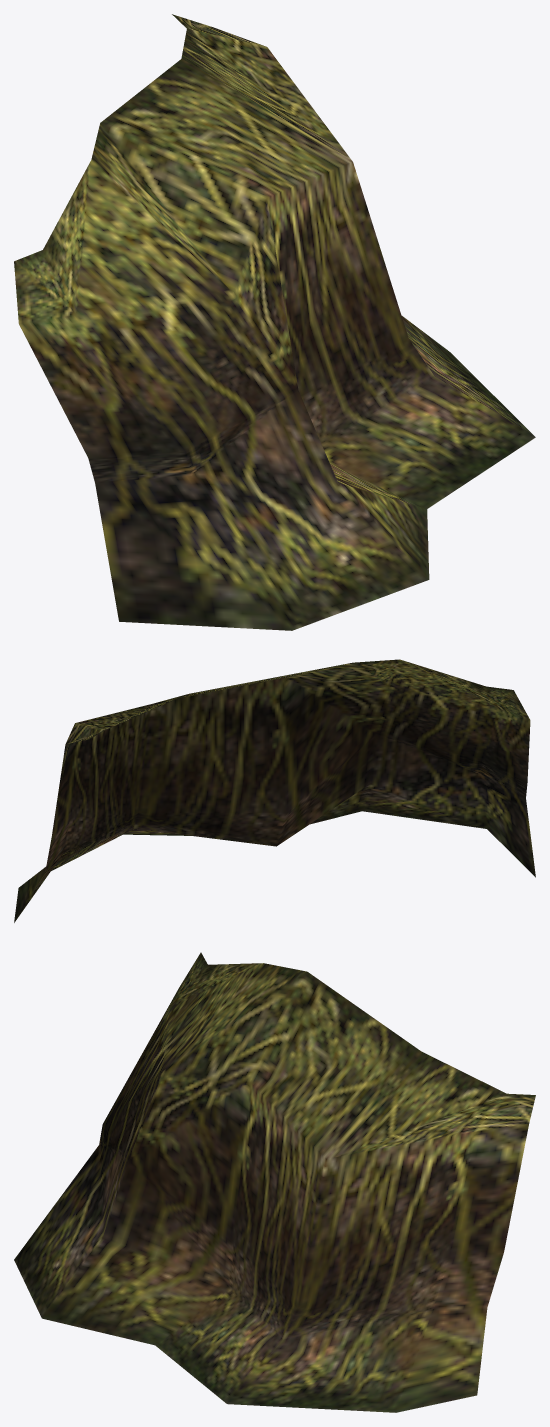
The picture shows the model from 3 angles, top to bottom: view 1: azimuth 30°, elevation 25°; view 2: azimuth 150°, elevation 25°; view 3: azimuth 270°, elevation 25°; orthographic projection. The views are drawn at different scales.
Parts seen in each view (by area): view 1: wj35; view 2: wj35; view 3: wj35.
Part boxes in pixels (x1=…): wj35: x1=14, y1=14, x2=535, y2=630; wj35: x1=14, y1=659, x2=535, y2=922; wj35: x1=14, y1=952, x2=535, y2=1412.
Bounding box in the file's own units: 2236 × 1385 × 2282.
